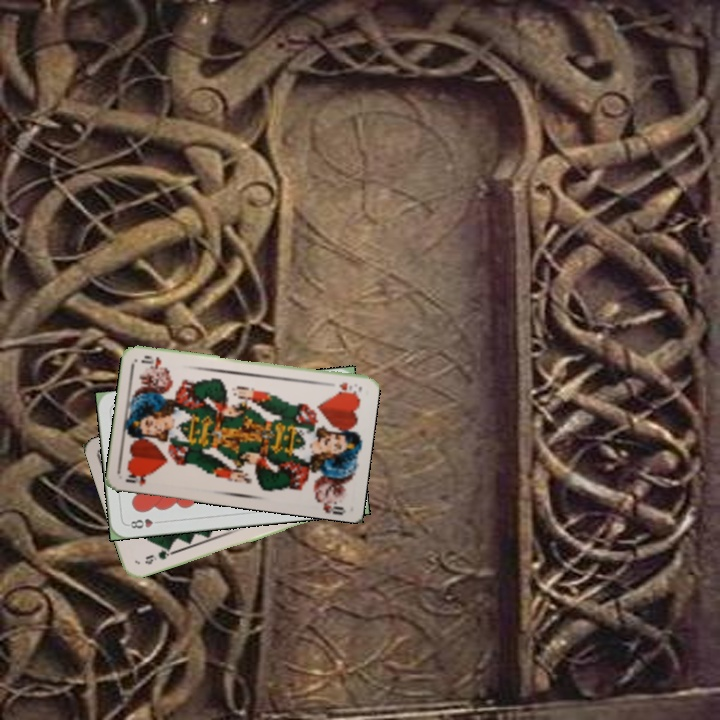G9: (141, 543, 176, 567)
H8: (124, 515, 164, 531)
HO: (121, 468, 153, 489), (334, 378, 359, 396)
